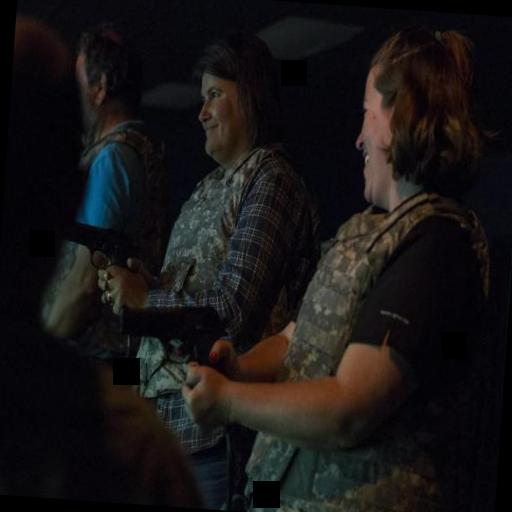Handgun: (112, 298, 230, 380), (54, 212, 142, 279)
